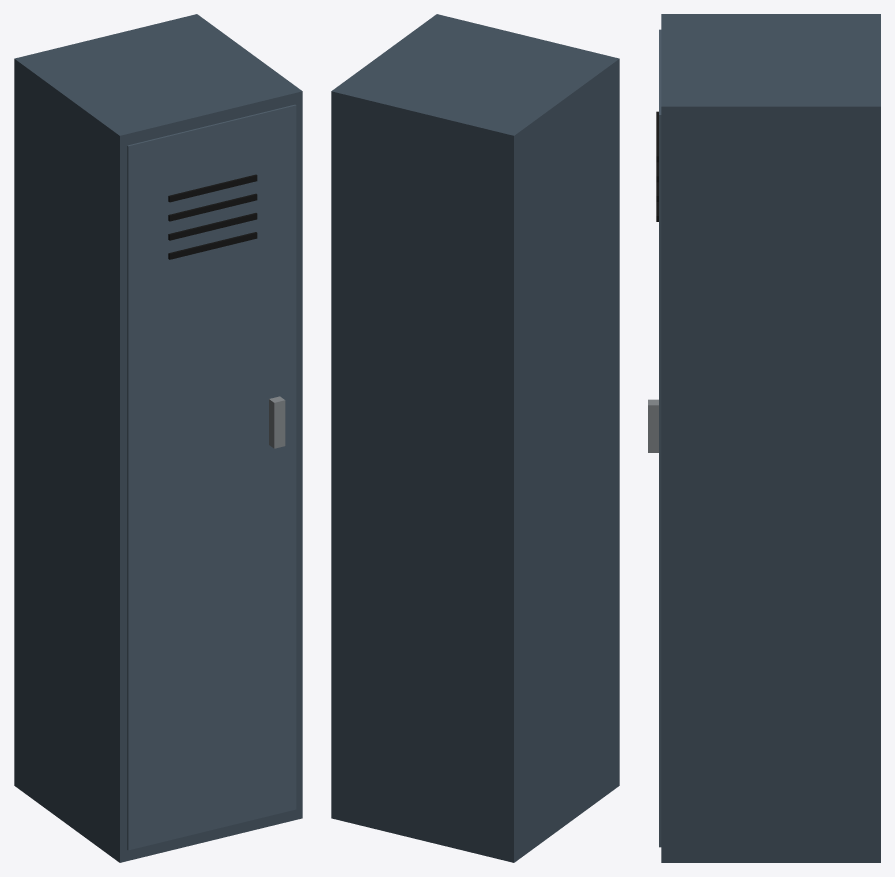
The model's file is locker.glb.
3 renders of one model, left to right at view 1: azimuth 30°, elevation 25°; view 2: azimuth 150°, elevation 25°; view 3: azimuth 270°, elevation 25°, orthographic. The views are drawn at different scales.
Visible parts, largest first — view 1: locker; view 2: locker; view 3: locker.
Boxes of the visible parts, x1,y1,x2,y2 form: locker: (14,14,302,862); locker: (331,14,619,862); locker: (648,14,880,862).
Bounding box in the file's own units: 0.5 × 1.9 × 0.53.
